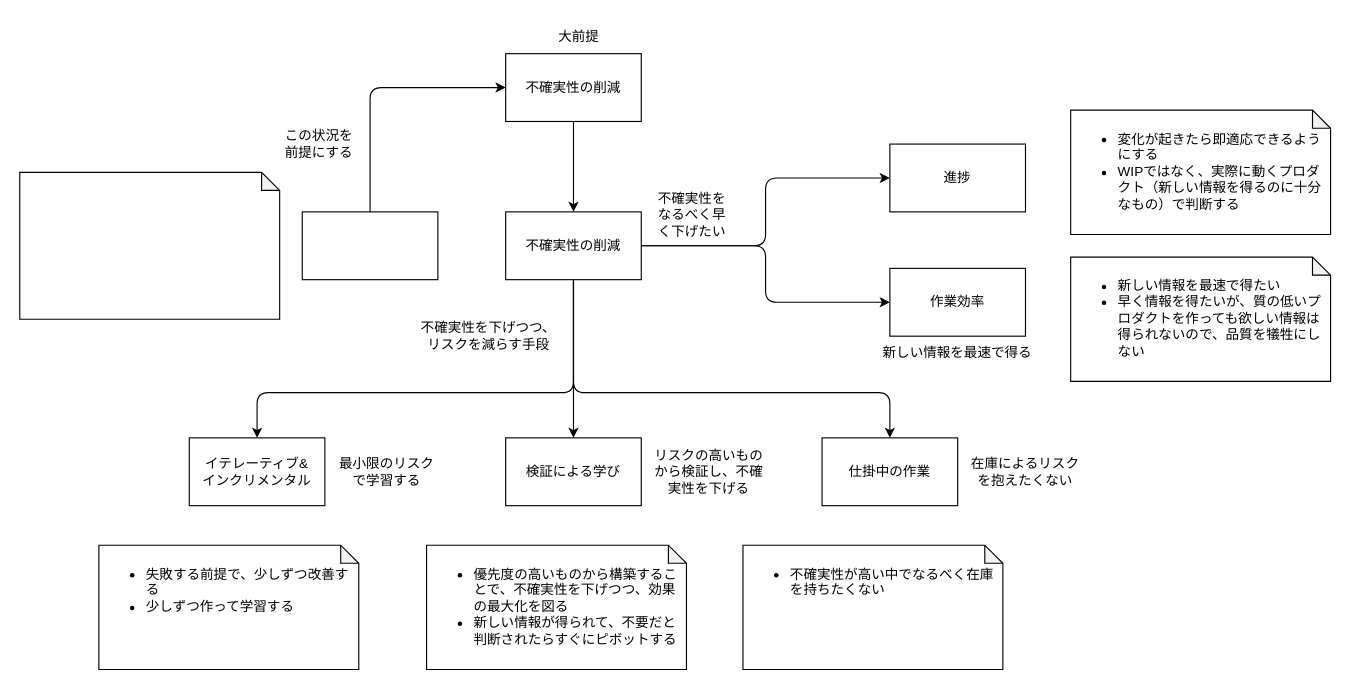
The diagram is 1350 pixels wide and 689 high, and some of its shapes have lost their labels. Each missing label, with the centre of its shape:
"予見と適応" belongs at [369,245].
"変動性、不確実性の高い状況では、 変化しない前提で計画を組むと、後に計画が崩れる 不確実な状況で意思決定をすると、誤った決断を下す可能性が高い" belongs at [149,245].
